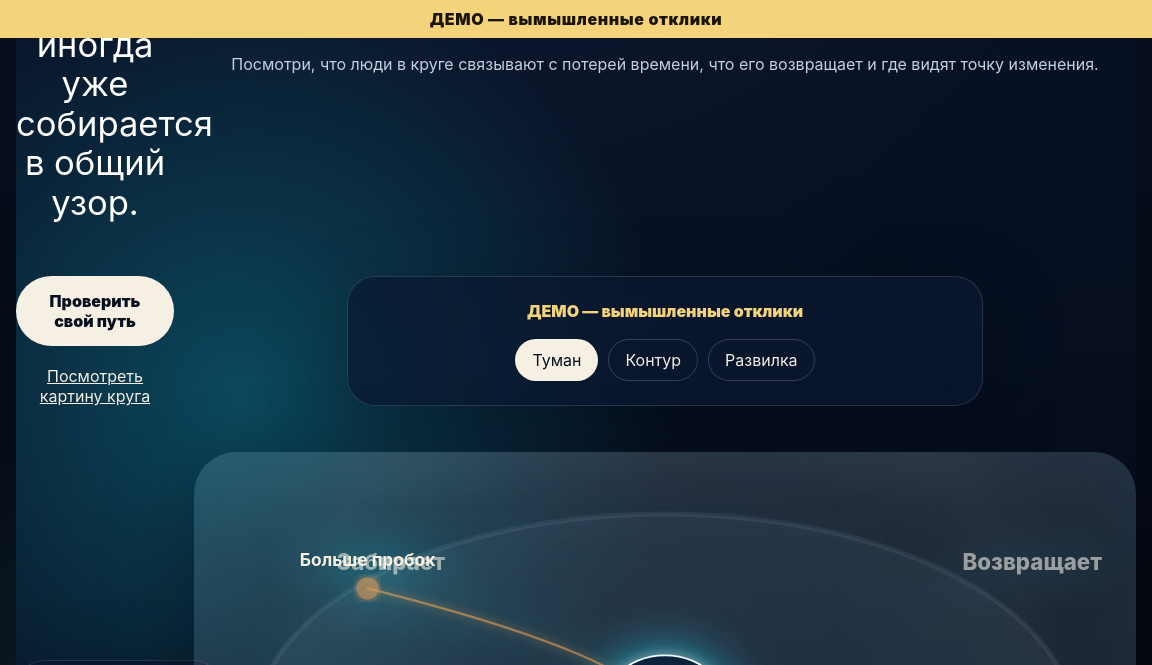
app › /demo показывает честный бейдж и переключает сценарии
This screenshot has width=1152, height=665.
(page scrolled)
Expected: the 1st text "ДЕМО — вымышленные отклики" is shown, [0,0,1151,38]
Expected: the link "Туман" is shown, [515,339,598,381]
Click the link "Контур". click: (653, 360)
box: [608,339,698,381]
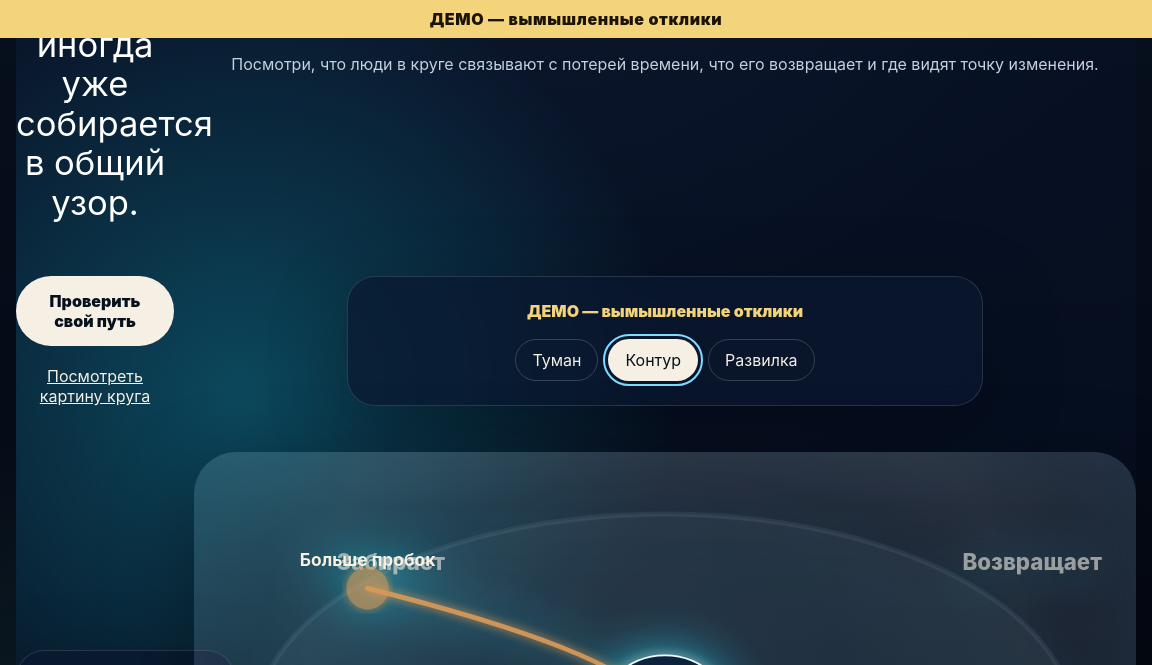
Click the link "Развилка". click: (761, 360)
box: [708,339,815,381]
(page scrolled)
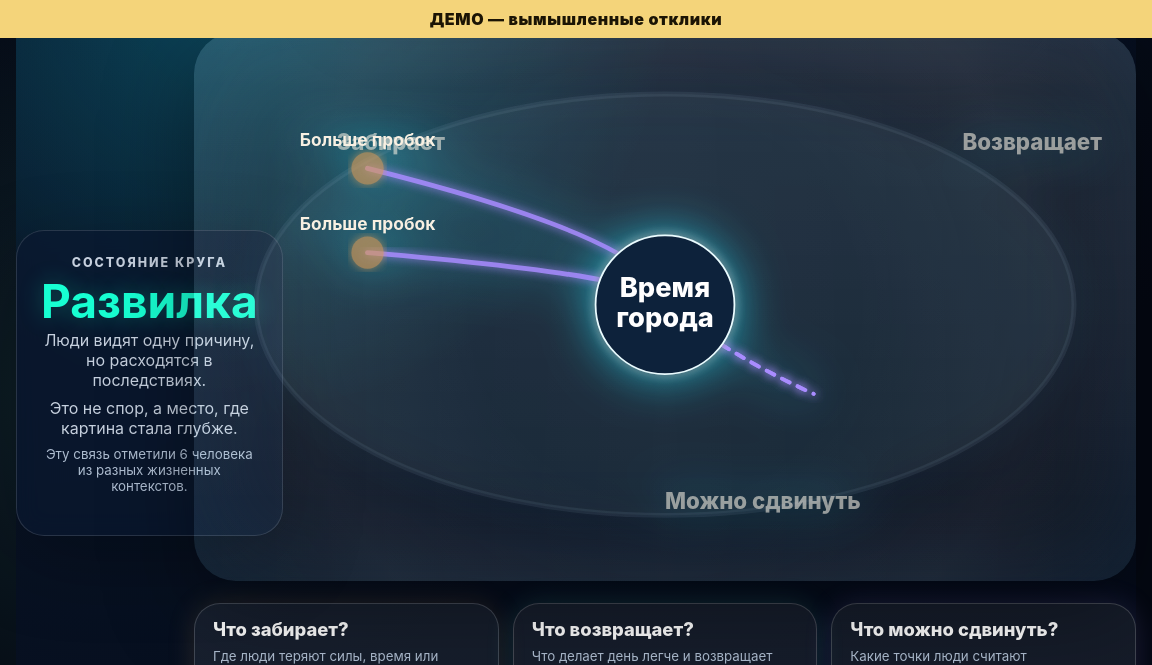
Expected: the text "Люди видят одну причину, но расходятся в последствиях." is shown, [41,330,258,390]
